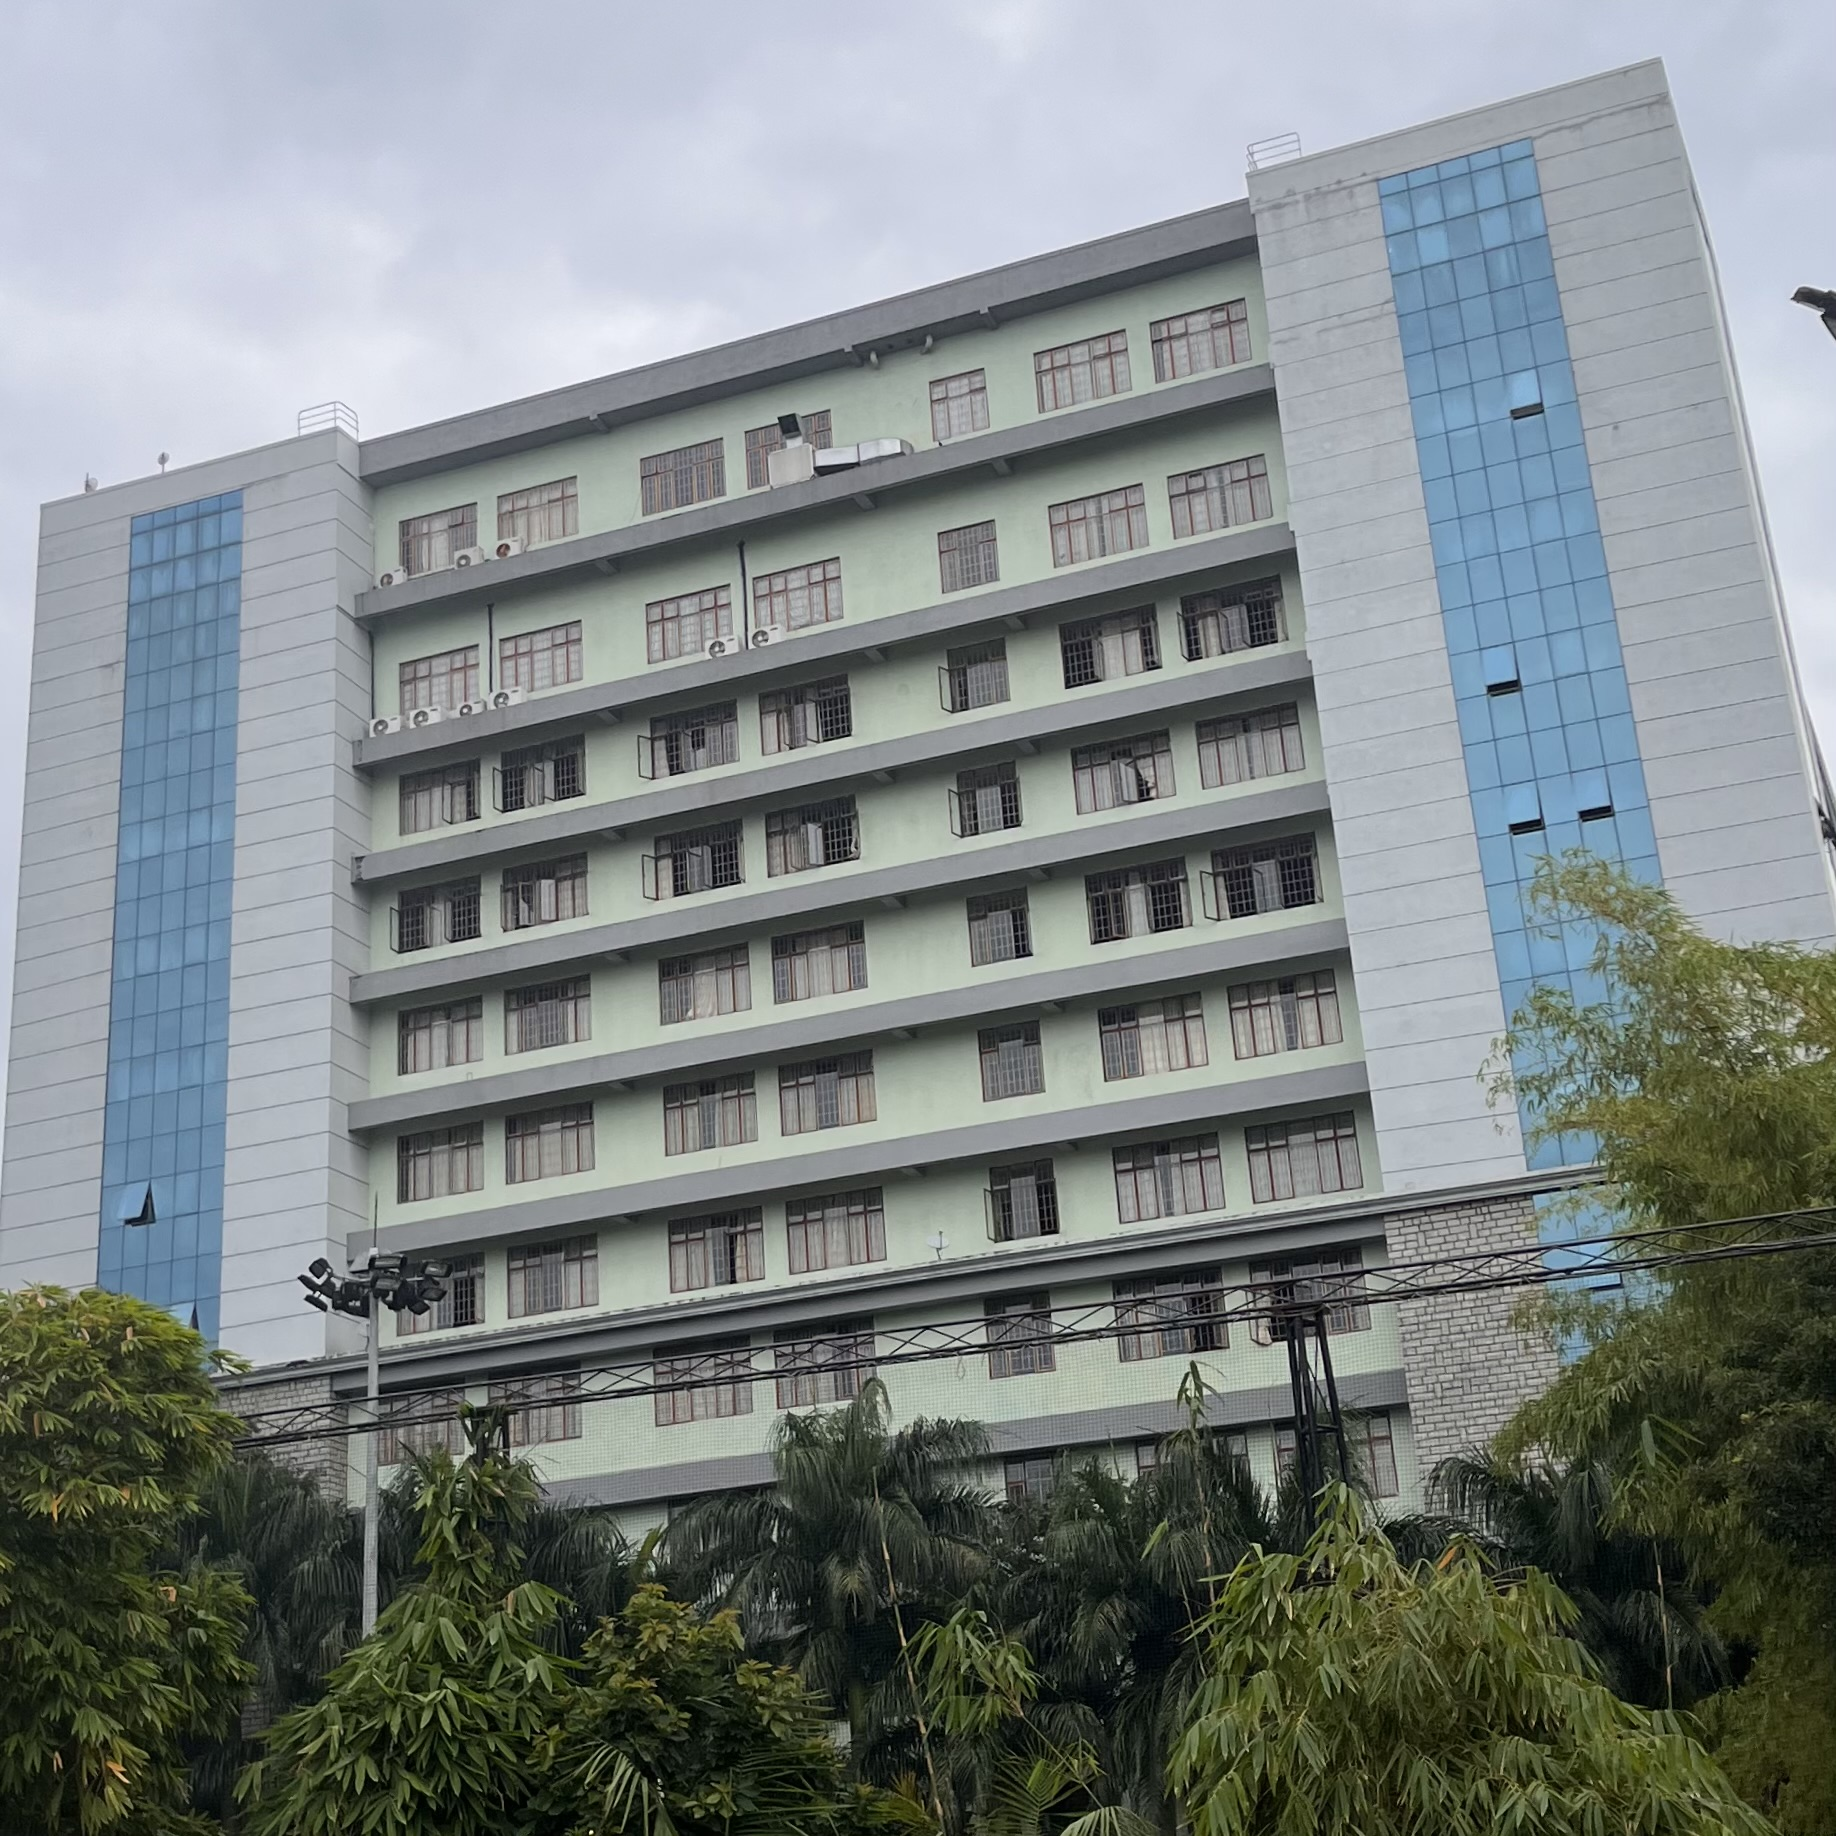Central Block: (27, 44, 1836, 1498)
